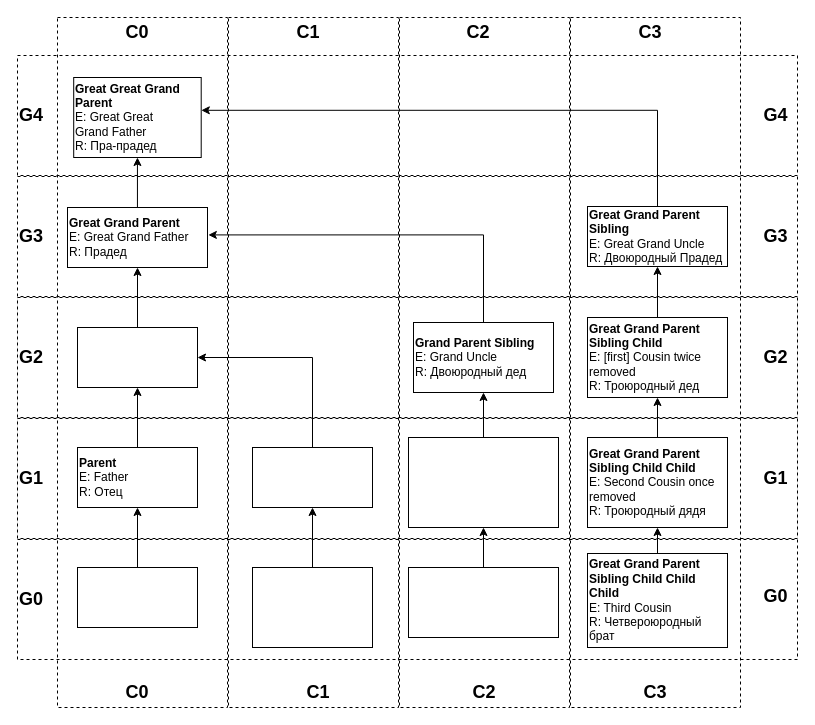
This 815x725 diagram has some shape labels left out. The shapes that lost their labels are listed below. From the top down, each one's box as (x1, y1, x2, y2) in pixels, then its label:
(76, 326, 198, 388): Grand Parent E: Grand Father R: Дед
(252, 446, 372, 508): Parent Sibling E: Uncle R: Дядя
(408, 436, 558, 528): Grand Parent Sibling Child E: [first] Cousin once removed R: Двоюродный дядя
(76, 566, 198, 628): Child < main >
(252, 566, 372, 648): Parent Sibling Child E: [first] Cousin R: Двоюродный брат
(408, 566, 558, 638): Grand Parent Sibling Child Child E: Second Cousin R: Троюродный брат
